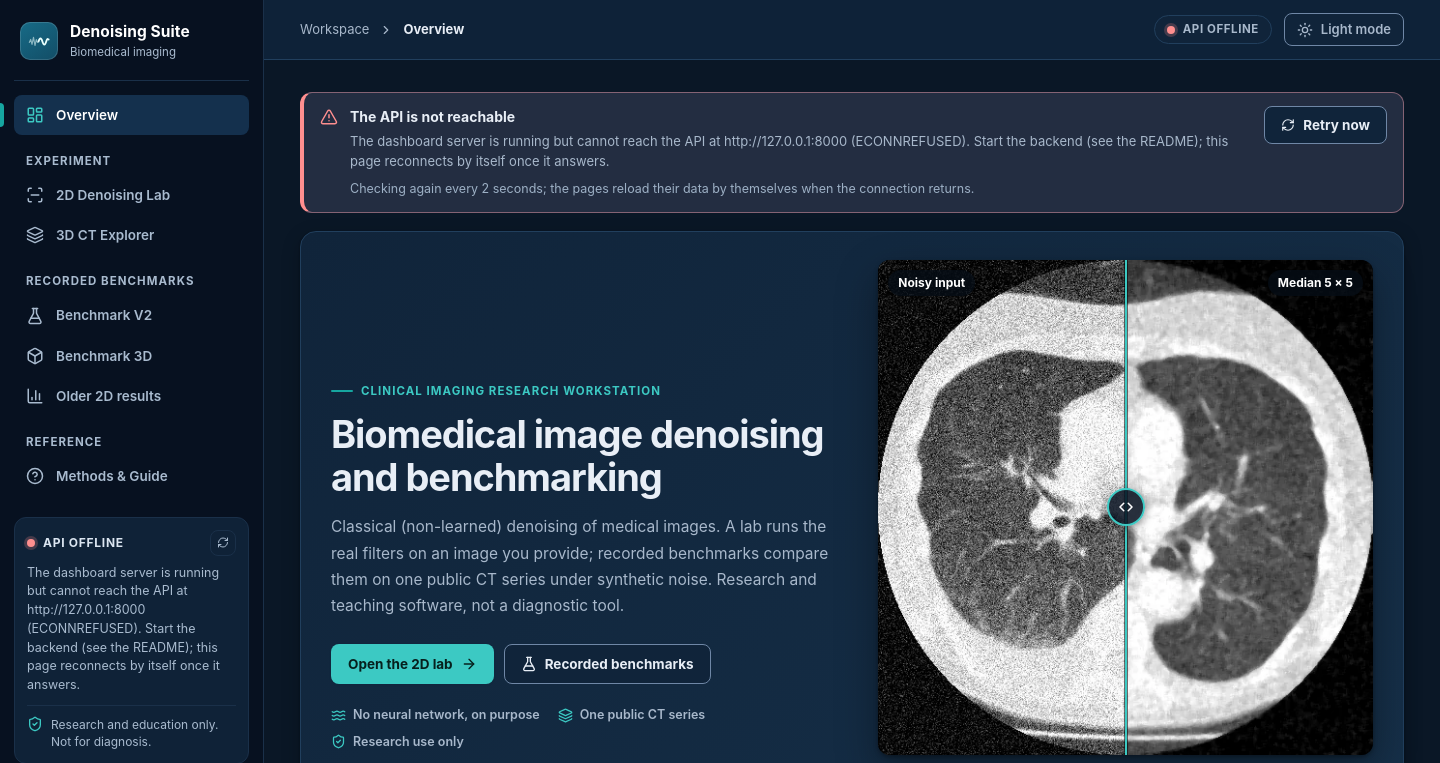
connection problems and recovery › names the real cause when the dashboard server cannot reach the backend, on every page
This screenshot has width=1440, height=763.
Expected: the message with test id "api-banner" shows "The API is not reachable", [350, 108, 515, 125]
Expected: the message with test id "api-banner" shows "cannot reach the API at http://127.0.0.1:8000 (ECONNREFUSED)", [350, 133, 1228, 169]
Click the button "Older 2D results" at (132, 396), box [14, 376, 249, 416]
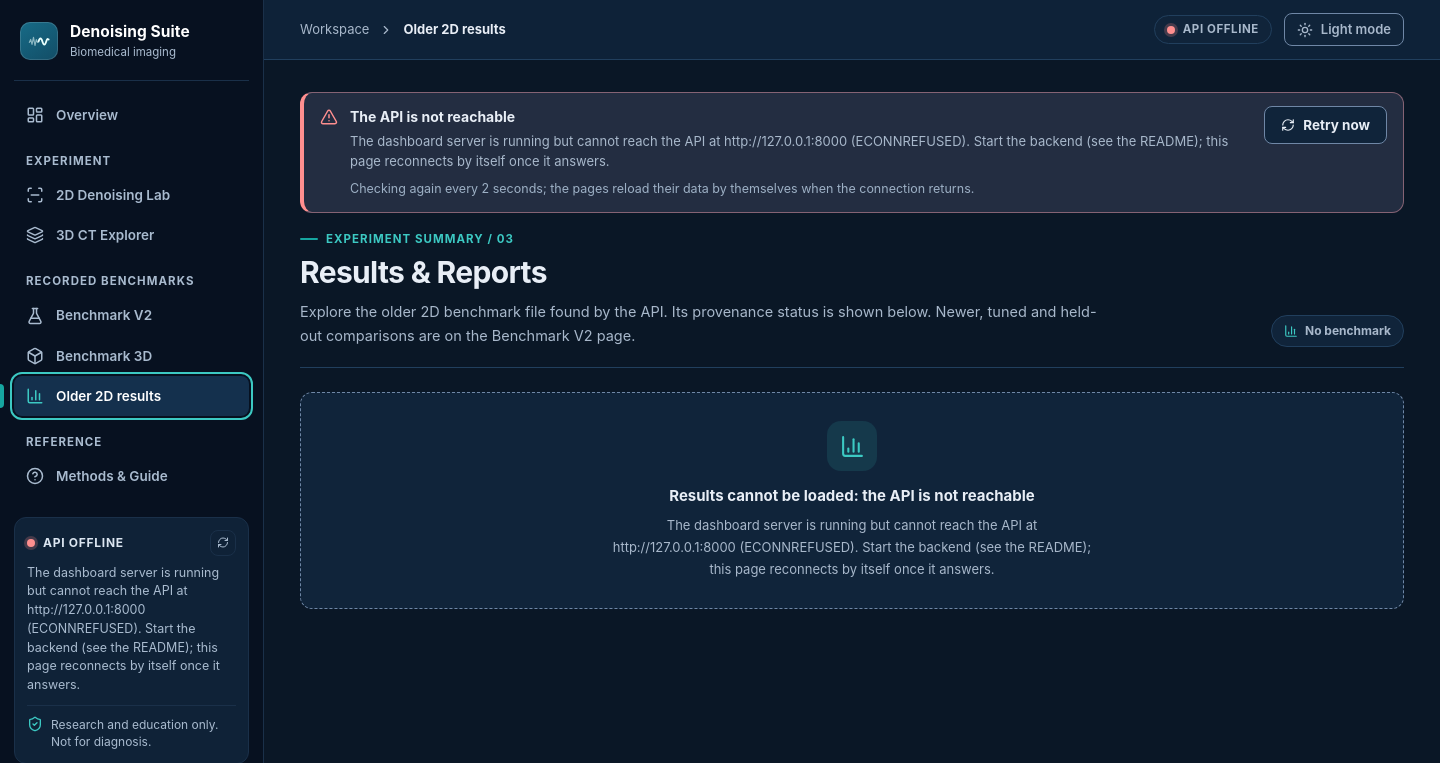
Now the heading "Results cannot be loaded: the API is not reachable" is shown, box [669, 486, 1035, 508]
Click the button "Benchmark V2" at (132, 316), box [14, 295, 249, 336]
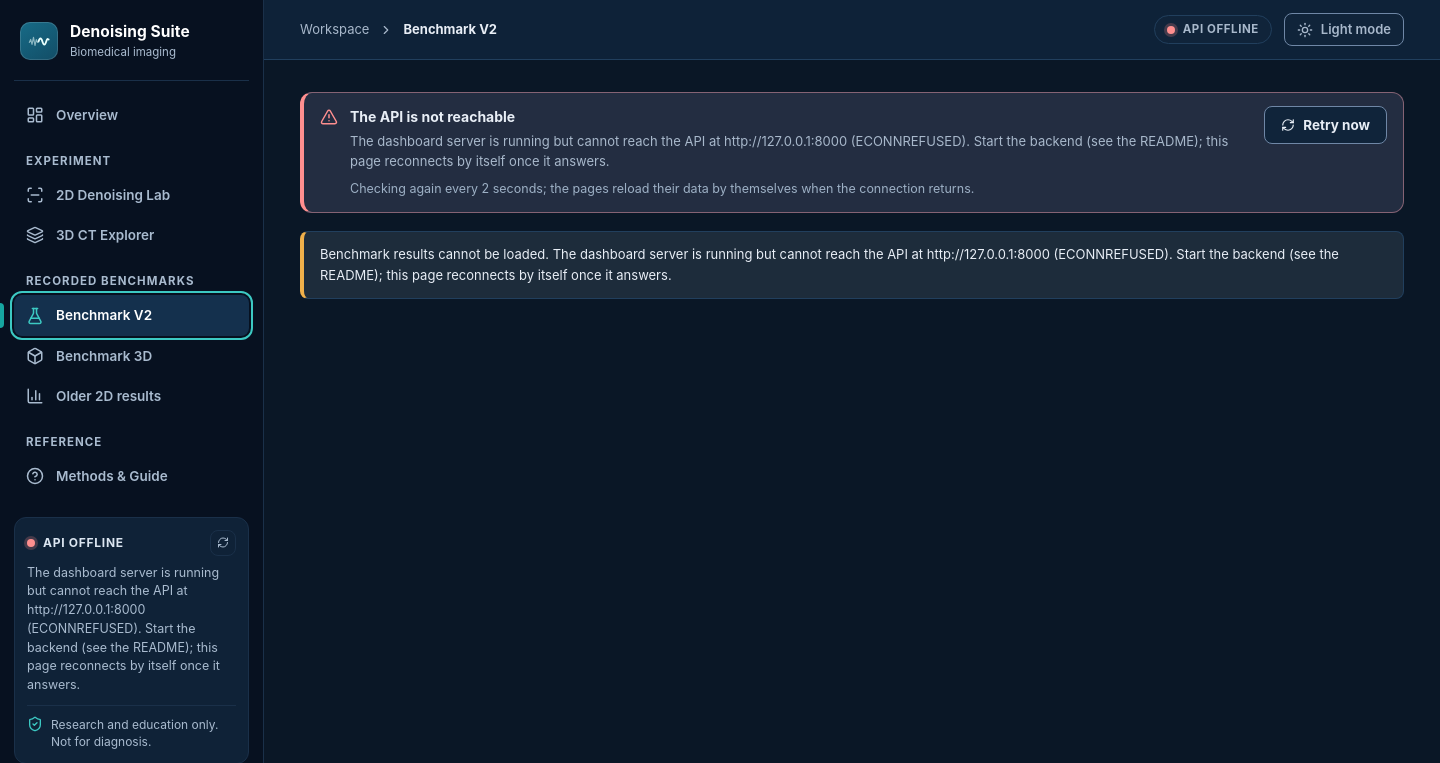
Click the button "Methods & Guide" at (132, 476), box [14, 456, 249, 497]
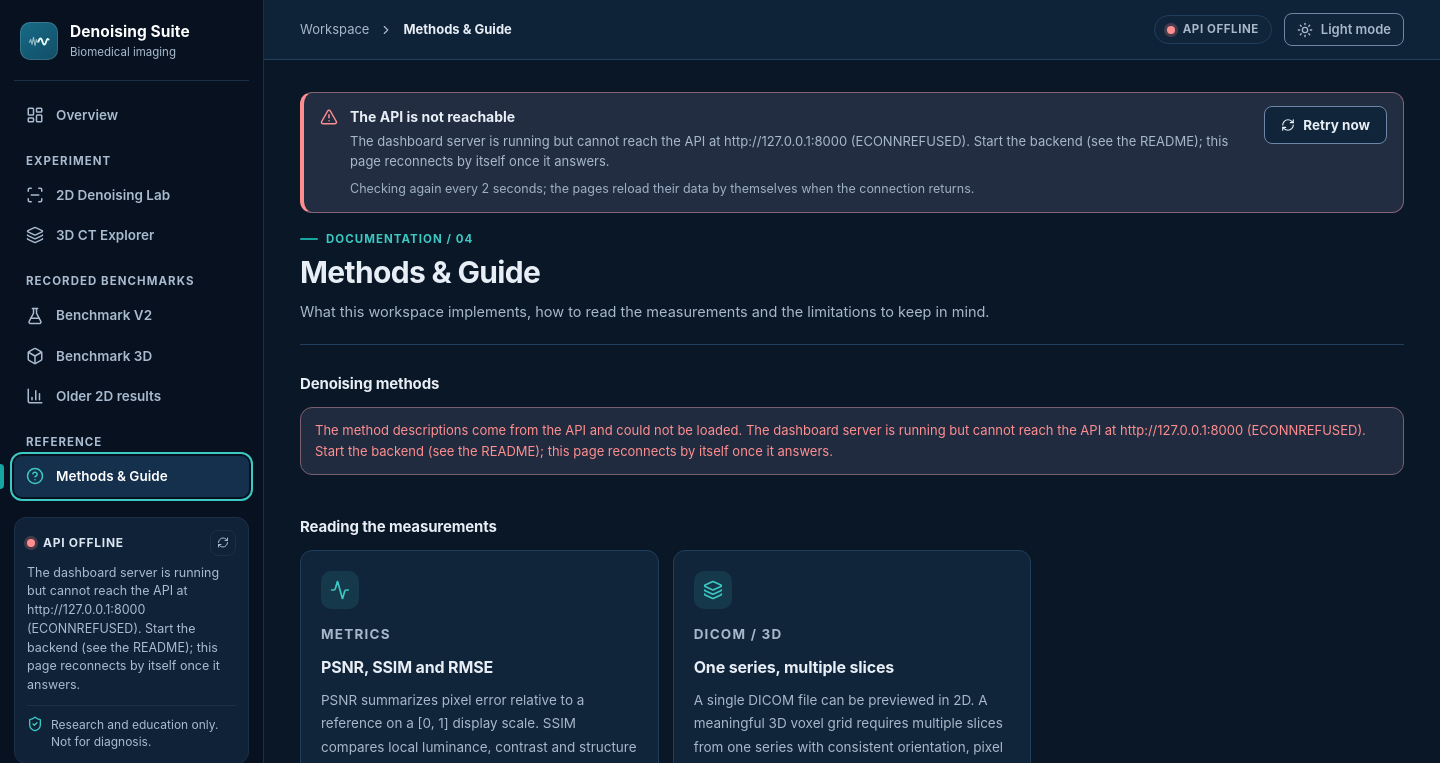
Now the text "method descriptions come from the API and could not be loaded" is shown, box [315, 422, 746, 438]
Click the button "3D CT Explorer" at (132, 235), box [14, 215, 249, 255]
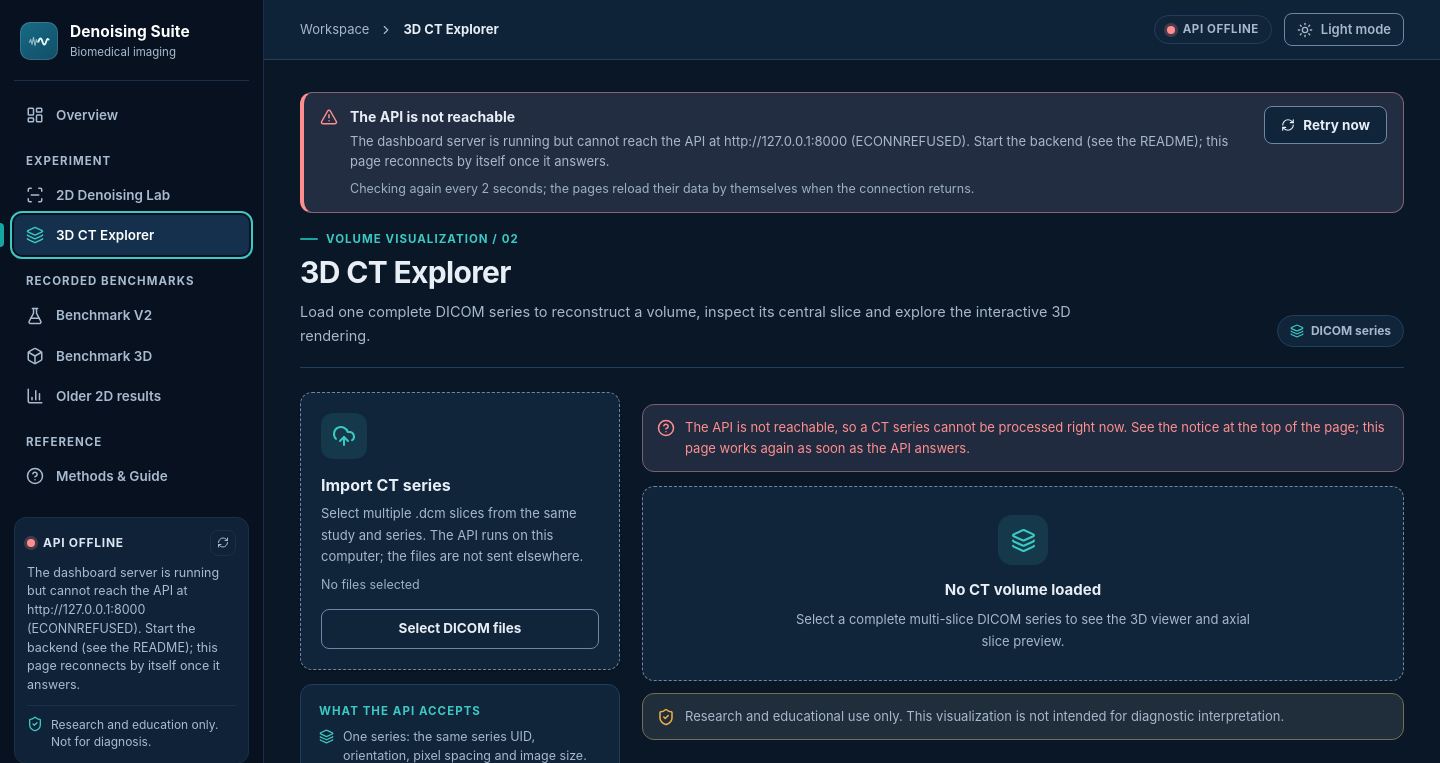
Now the file field labelled "Select DICOM files" is disabled, box [321, 608, 599, 648]
